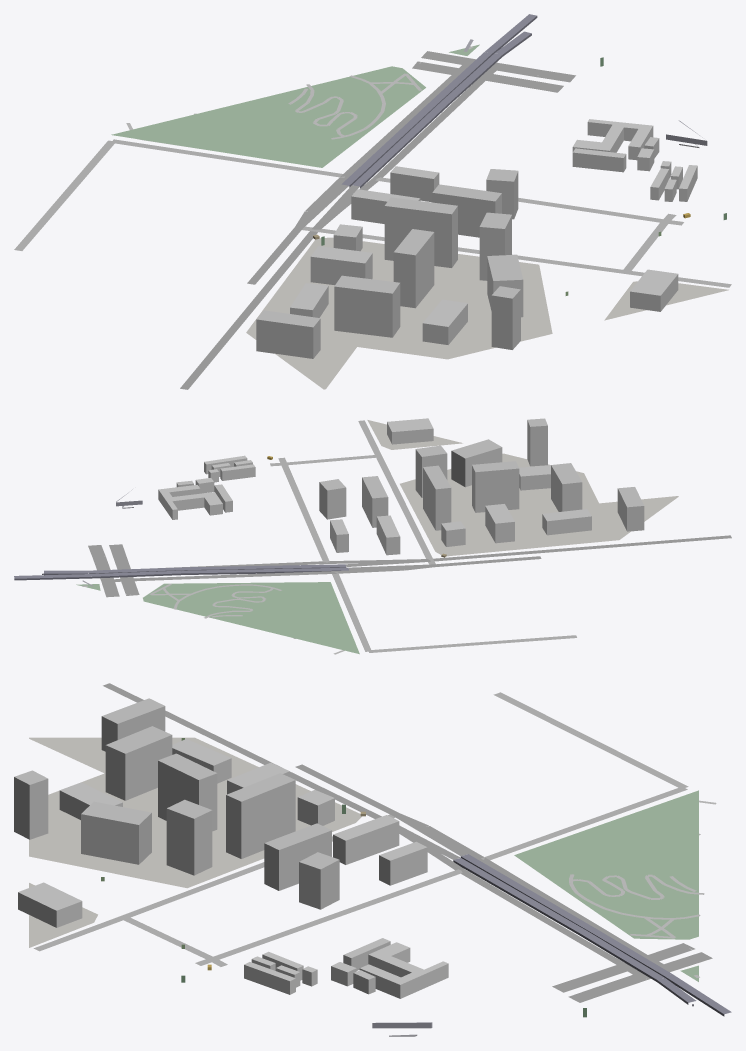
3 views of the same model, one above another, from view 1: azimuth 30°, elevation 25°; view 2: azimuth 150°, elevation 25°; view 3: azimuth 270°, elevation 25° (orthographic). The views are drawn at different scales.
Size of the model in its own units: 598 by 60.52 by 536.
